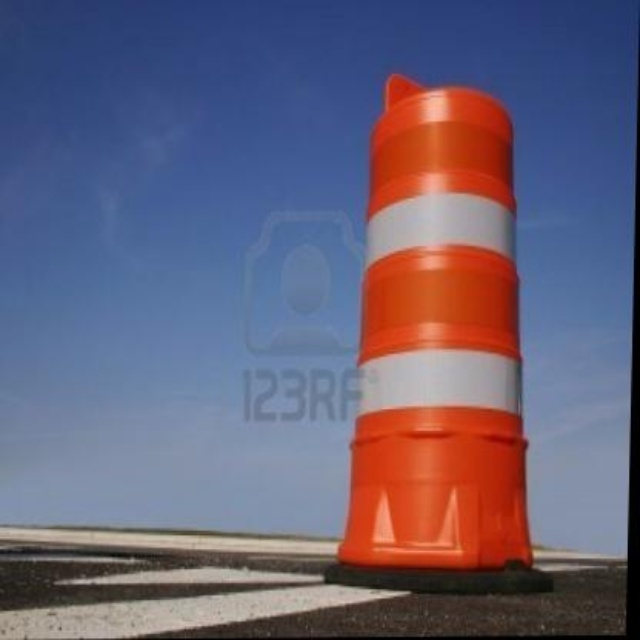obstacle: (349, 66, 556, 579)
